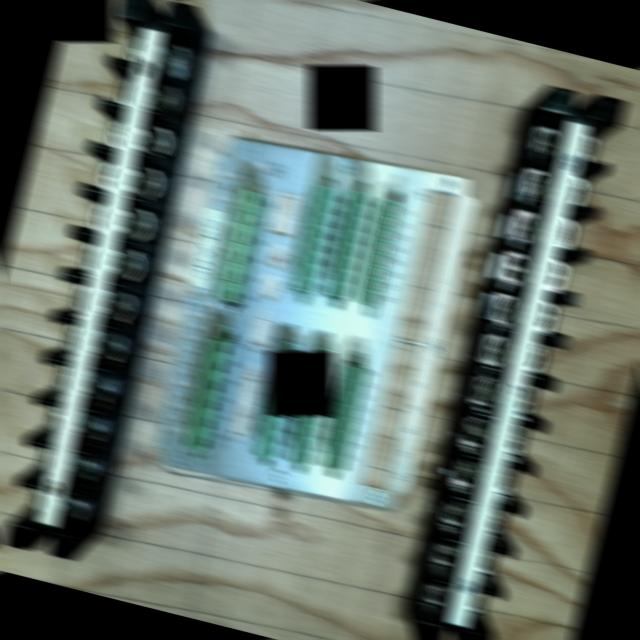Flathead_Block: (3, 0, 195, 559)
Phillips_Block: (413, 82, 626, 640)
Terminal_1: (212, 187, 266, 304), (181, 335, 233, 453)
Terminal_2: (323, 188, 373, 300), (319, 362, 369, 473), (285, 356, 334, 468), (251, 351, 300, 462), (290, 183, 339, 294)
